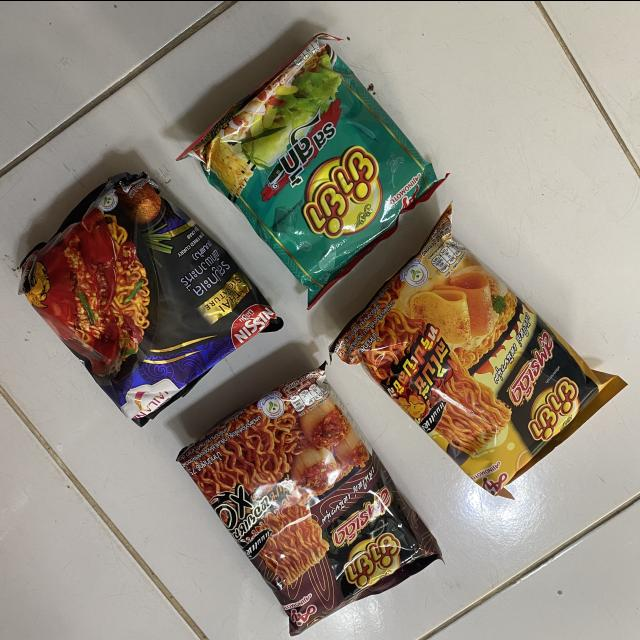plastik: (331, 205, 626, 496), (179, 33, 445, 307), (178, 363, 441, 635), (20, 172, 282, 424)
